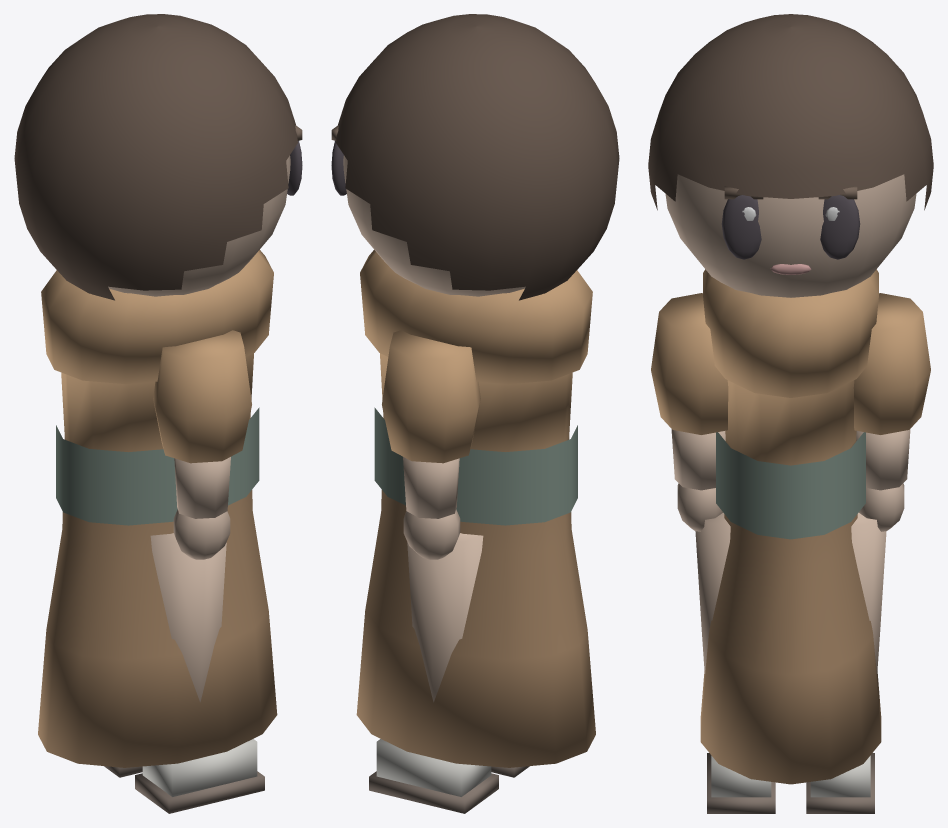
The model's file is villager_c.glb.
3 renders of one model, left to right at view 1: azimuth 30°, elevation 25°; view 2: azimuth 150°, elevation 25°; view 3: azimuth 270°, elevation 25°, orthographic.
Parts seen in each view (by area): view 1: Body, Head, ArmR, LegR; view 2: Body, Head, ArmL, LegL; view 3: Body, Head, ArmR, ArmL, LegL, LegR.
Boxes of the visible parts, bbox=[...] form: Body: bbox=[38, 250, 277, 767]; Head: bbox=[14, 14, 302, 300]; ArmR: bbox=[153, 330, 251, 559]; LegR: bbox=[135, 533, 264, 813]; Body: bbox=[356, 250, 595, 767]; Head: bbox=[331, 14, 619, 300]; ArmL: bbox=[382, 330, 480, 559]; LegL: bbox=[369, 533, 498, 813]; Body: bbox=[700, 269, 881, 784]; Head: bbox=[648, 14, 933, 297]; ArmR: bbox=[651, 293, 728, 531]; ArmL: bbox=[853, 293, 930, 531]; LegL: bbox=[806, 512, 886, 813]; LegR: bbox=[695, 512, 775, 813].
Size of the model in its own units: 0.3364 by 0.9705 by 0.3329.
